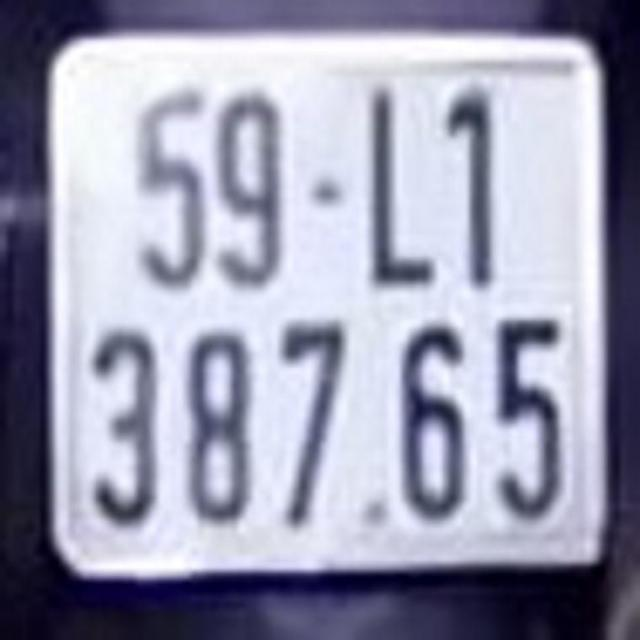1: (449, 83, 494, 284)
3: (94, 330, 158, 525)
5: (130, 86, 204, 286), (496, 316, 564, 516)
6: (400, 324, 467, 516)
7: (283, 320, 344, 518)
8: (187, 331, 251, 520)
9: (211, 88, 282, 287)
L: (370, 82, 441, 287)
